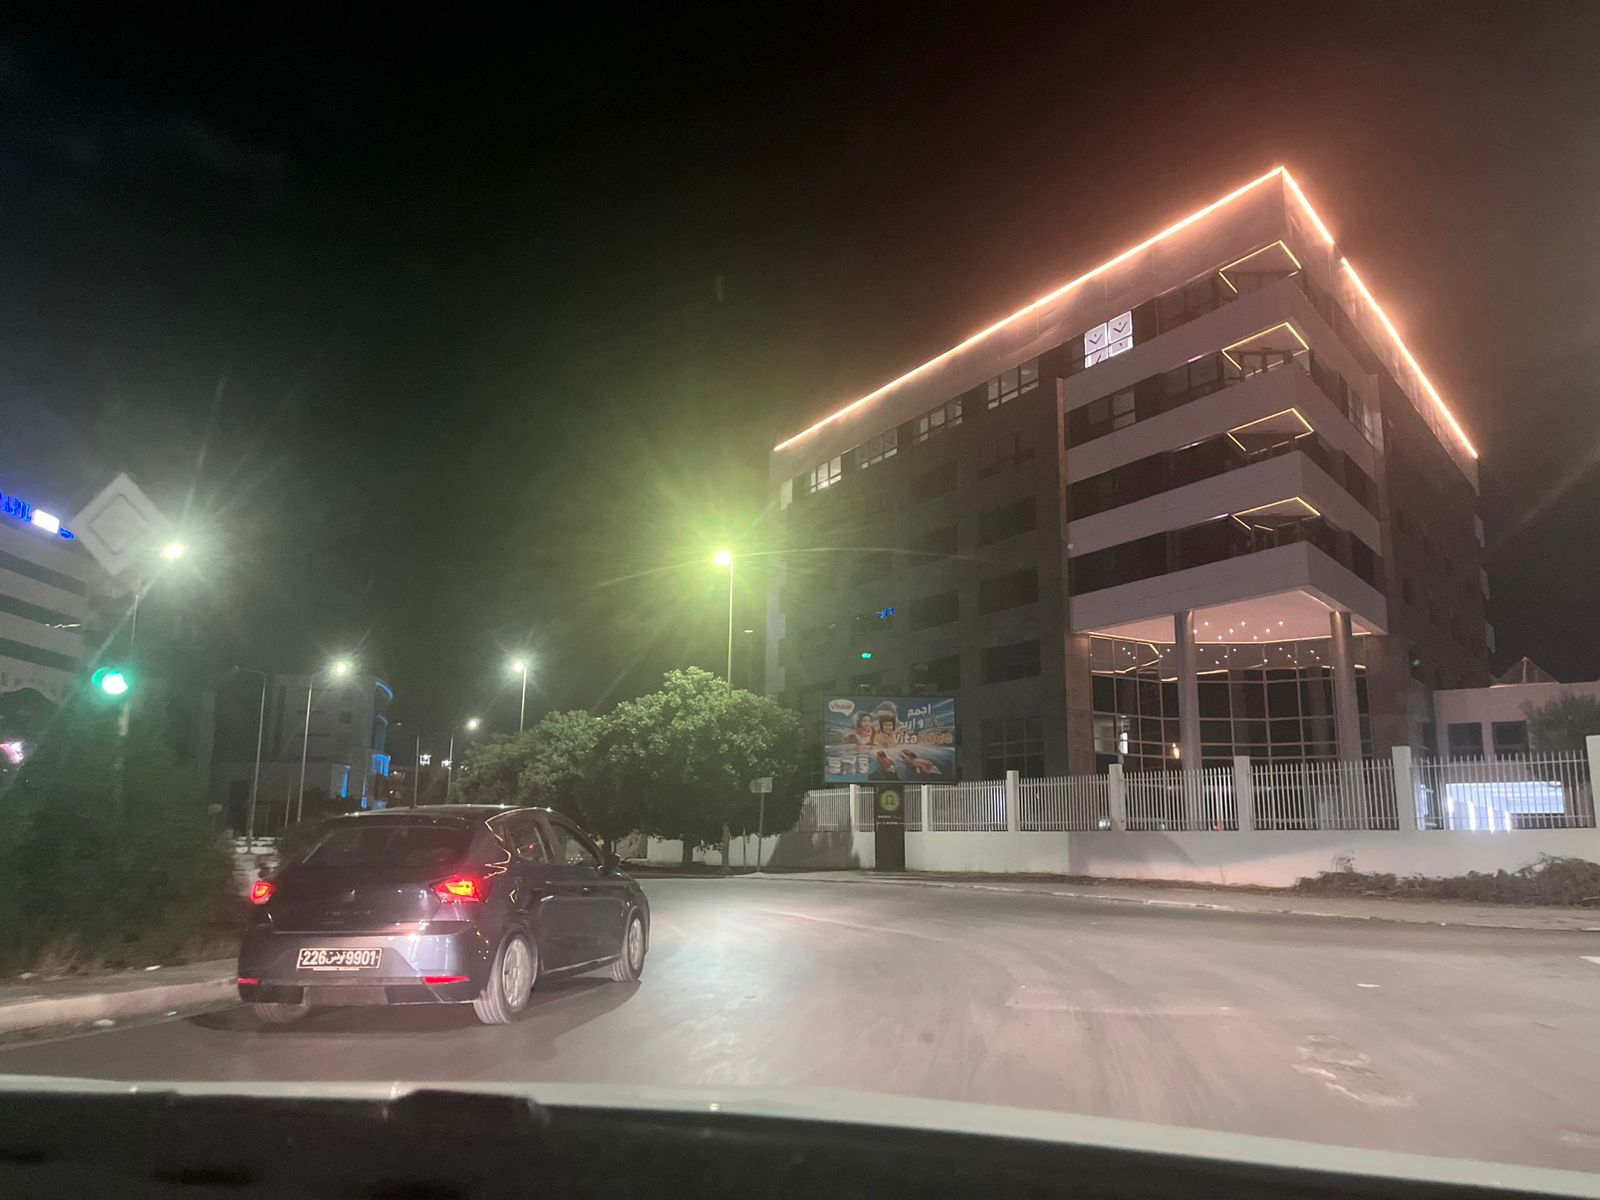GreenLight: (73, 592, 146, 726)
